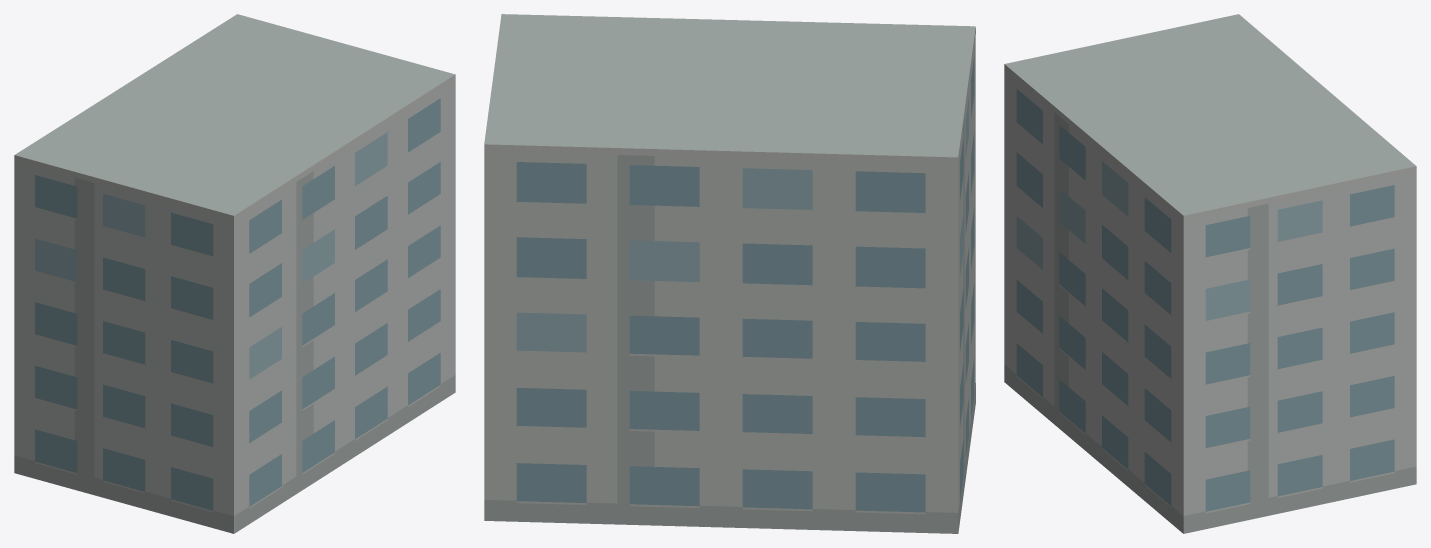
Rendered from survey-upis-32955621.glb.
3 renders of one model, left to right at view 1: azimuth 30°, elevation 25°; view 2: azimuth 150°, elevation 25°; view 3: azimuth 270°, elevation 25°, orthographic. The views are drawn at different scales.
Visible parts, largest first — view 1: survey-upis-32955621.tmp; view 2: survey-upis-32955621.tmp; view 3: survey-upis-32955621.tmp.
Part boxes in pixels (x1,y1,x2,y2): survey-upis-32955621.tmp: (14,14,455,533); survey-upis-32955621.tmp: (484,14,975,533); survey-upis-32955621.tmp: (1004,14,1416,533).
Size of the model in its own units: 18.11 by 13.3 by 15.63.
